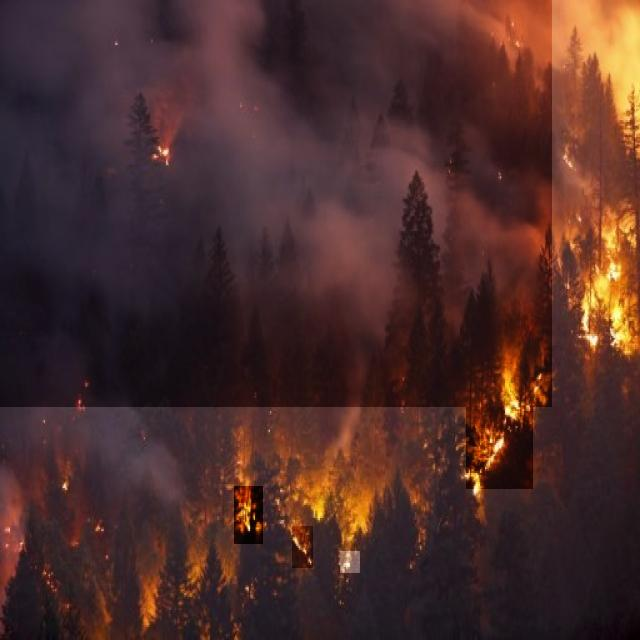Fire: (580, 206, 634, 366), (466, 386, 533, 489), (234, 486, 263, 544), (292, 526, 313, 568), (151, 134, 173, 172), (340, 551, 360, 573)
Smoke: (0, 0, 552, 407)
